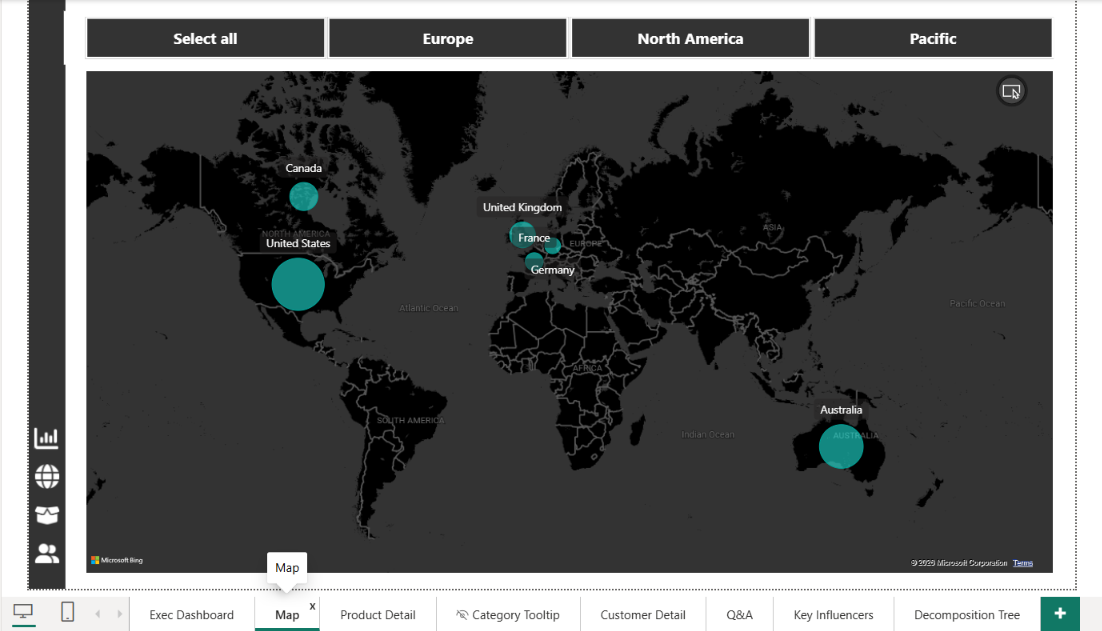

The dashboard page shown, as its layout file describes it:
{"tool":"powerbi","page":{"name":"Map","canvas":[1280,720],"ordinal":1},"visuals":[{"type":"shape","box":[0,0,45,720],"z":0},{"type":"actionButton","box":[2.5,516.7,45.6,37.8],"z":0,"group":"g1"},{"type":"map","fields":{"Category":["Territory Lookup.Country"],"Size":["Measure Table.Total Orders"]},"box":[65.6,82.5,1191.3,622.8],"z":1000},{"type":"actionButton","box":[3.3,563.4,45.6,37.8],"z":1000,"group":"g1"},{"type":"slicer","fields":{"Values":["Territory Lookup.Continent"]},"box":[43,13.6,1234.3,65.6],"z":2000},{"type":"actionButton","box":[3.3,611.1,45.6,37.8],"z":2000,"group":"g1"},{"type":"group","id":"g1","title":"Navigation Buttons","box":[2.5,516.7,46.4,178.9],"z":3000},{"type":"actionButton","box":[3.3,657.8,45.6,37.8],"z":3000,"group":"g1"}]}

Visuals, with their boxes on the page's 1280x720 design canvas (x1, y1, x2, y2). These are canvas units, not pixel positions in the 1102x631 screenshot, which may show the page scaled, cropped or inside an application window:
shape: 0:0:45:720
actionButton: 2:517:48:554
map - Territory Lookup.Country x Measure Table.Total Orders: 66:82:1257:705
actionButton: 3:563:49:601
slicer - Territory Lookup.Continent: 43:14:1277:79
actionButton: 3:611:49:649
"Navigation Buttons" group: 2:517:49:696
actionButton: 3:658:49:696
